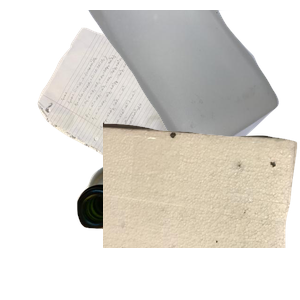glass: (74, 158, 223, 300)
paper: (35, 25, 232, 204)
plastic: (84, 10, 300, 157)
trash: (103, 120, 300, 300)
